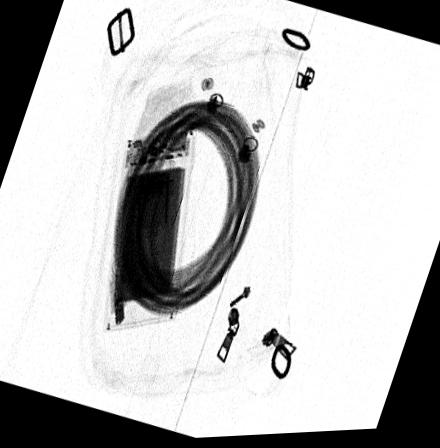Powerbank: (103, 130, 199, 335)
